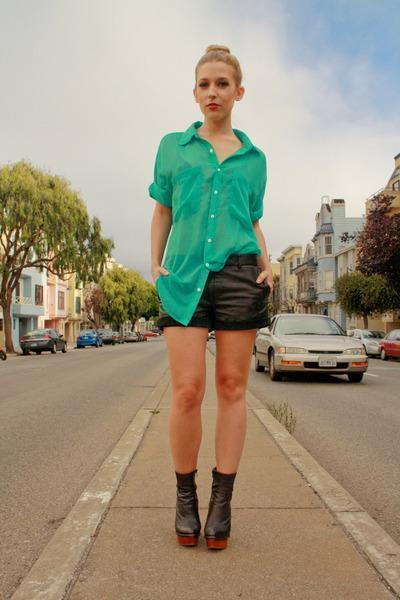short sleeve shirt: (146, 121, 271, 327)
skirt: (151, 252, 274, 332)
